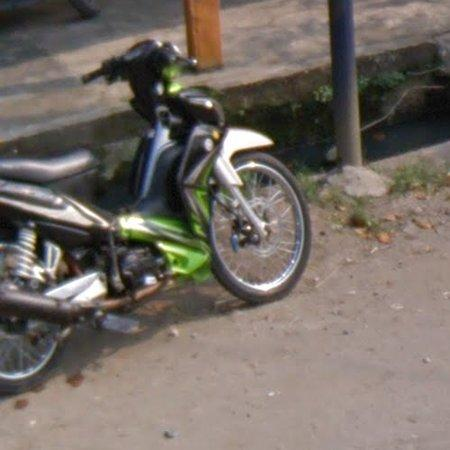motorcycles: (0, 40, 312, 386)
